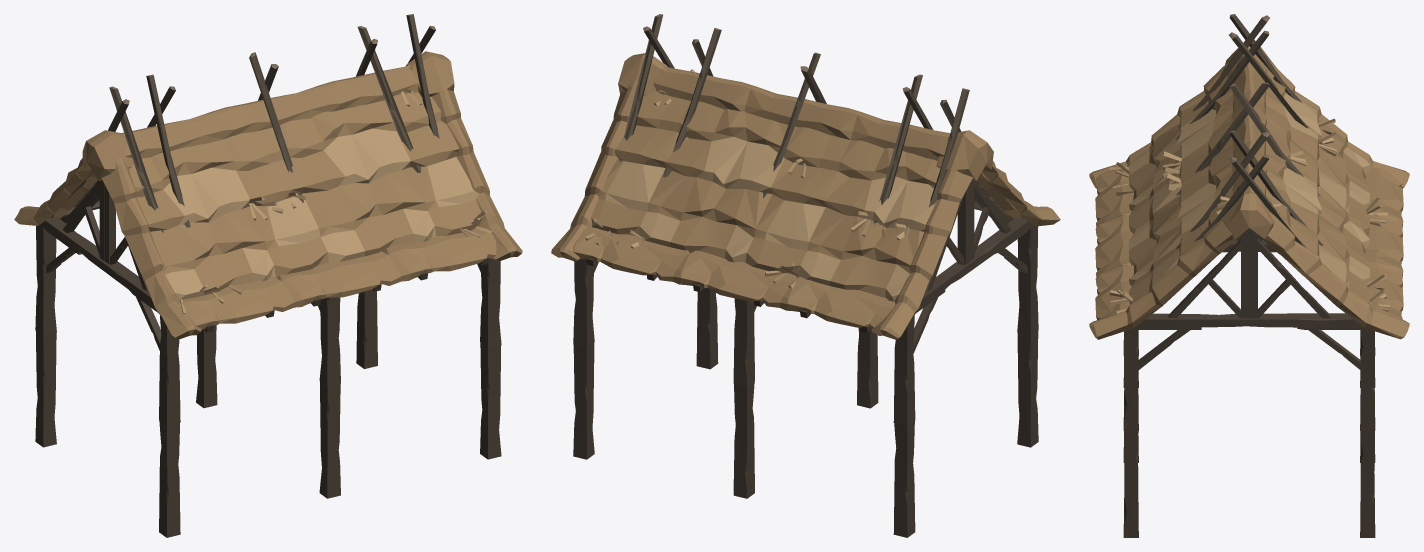
The model's file is bld_shelter.gltf.
The picture shows the model from 3 angles, left to right: view 1: azimuth 30°, elevation 25°; view 2: azimuth 150°, elevation 25°; view 3: azimuth 270°, elevation 25°; orthographic projection. The views are drawn at different scales.
Parts seen in each view (by area): view 1: bld_shelter; view 2: bld_shelter; view 3: bld_shelter.
Part boxes in pixels (left/top/right/bottom): bld_shelter: left=14, top=14, right=522, bottom=537; bld_shelter: left=551, top=14, right=1060, bottom=537; bld_shelter: left=1089, top=14, right=1409, bottom=537.
Bounding box in the file's own units: 8.49 × 8.81 × 6.78.
1 material, 1 textured.
